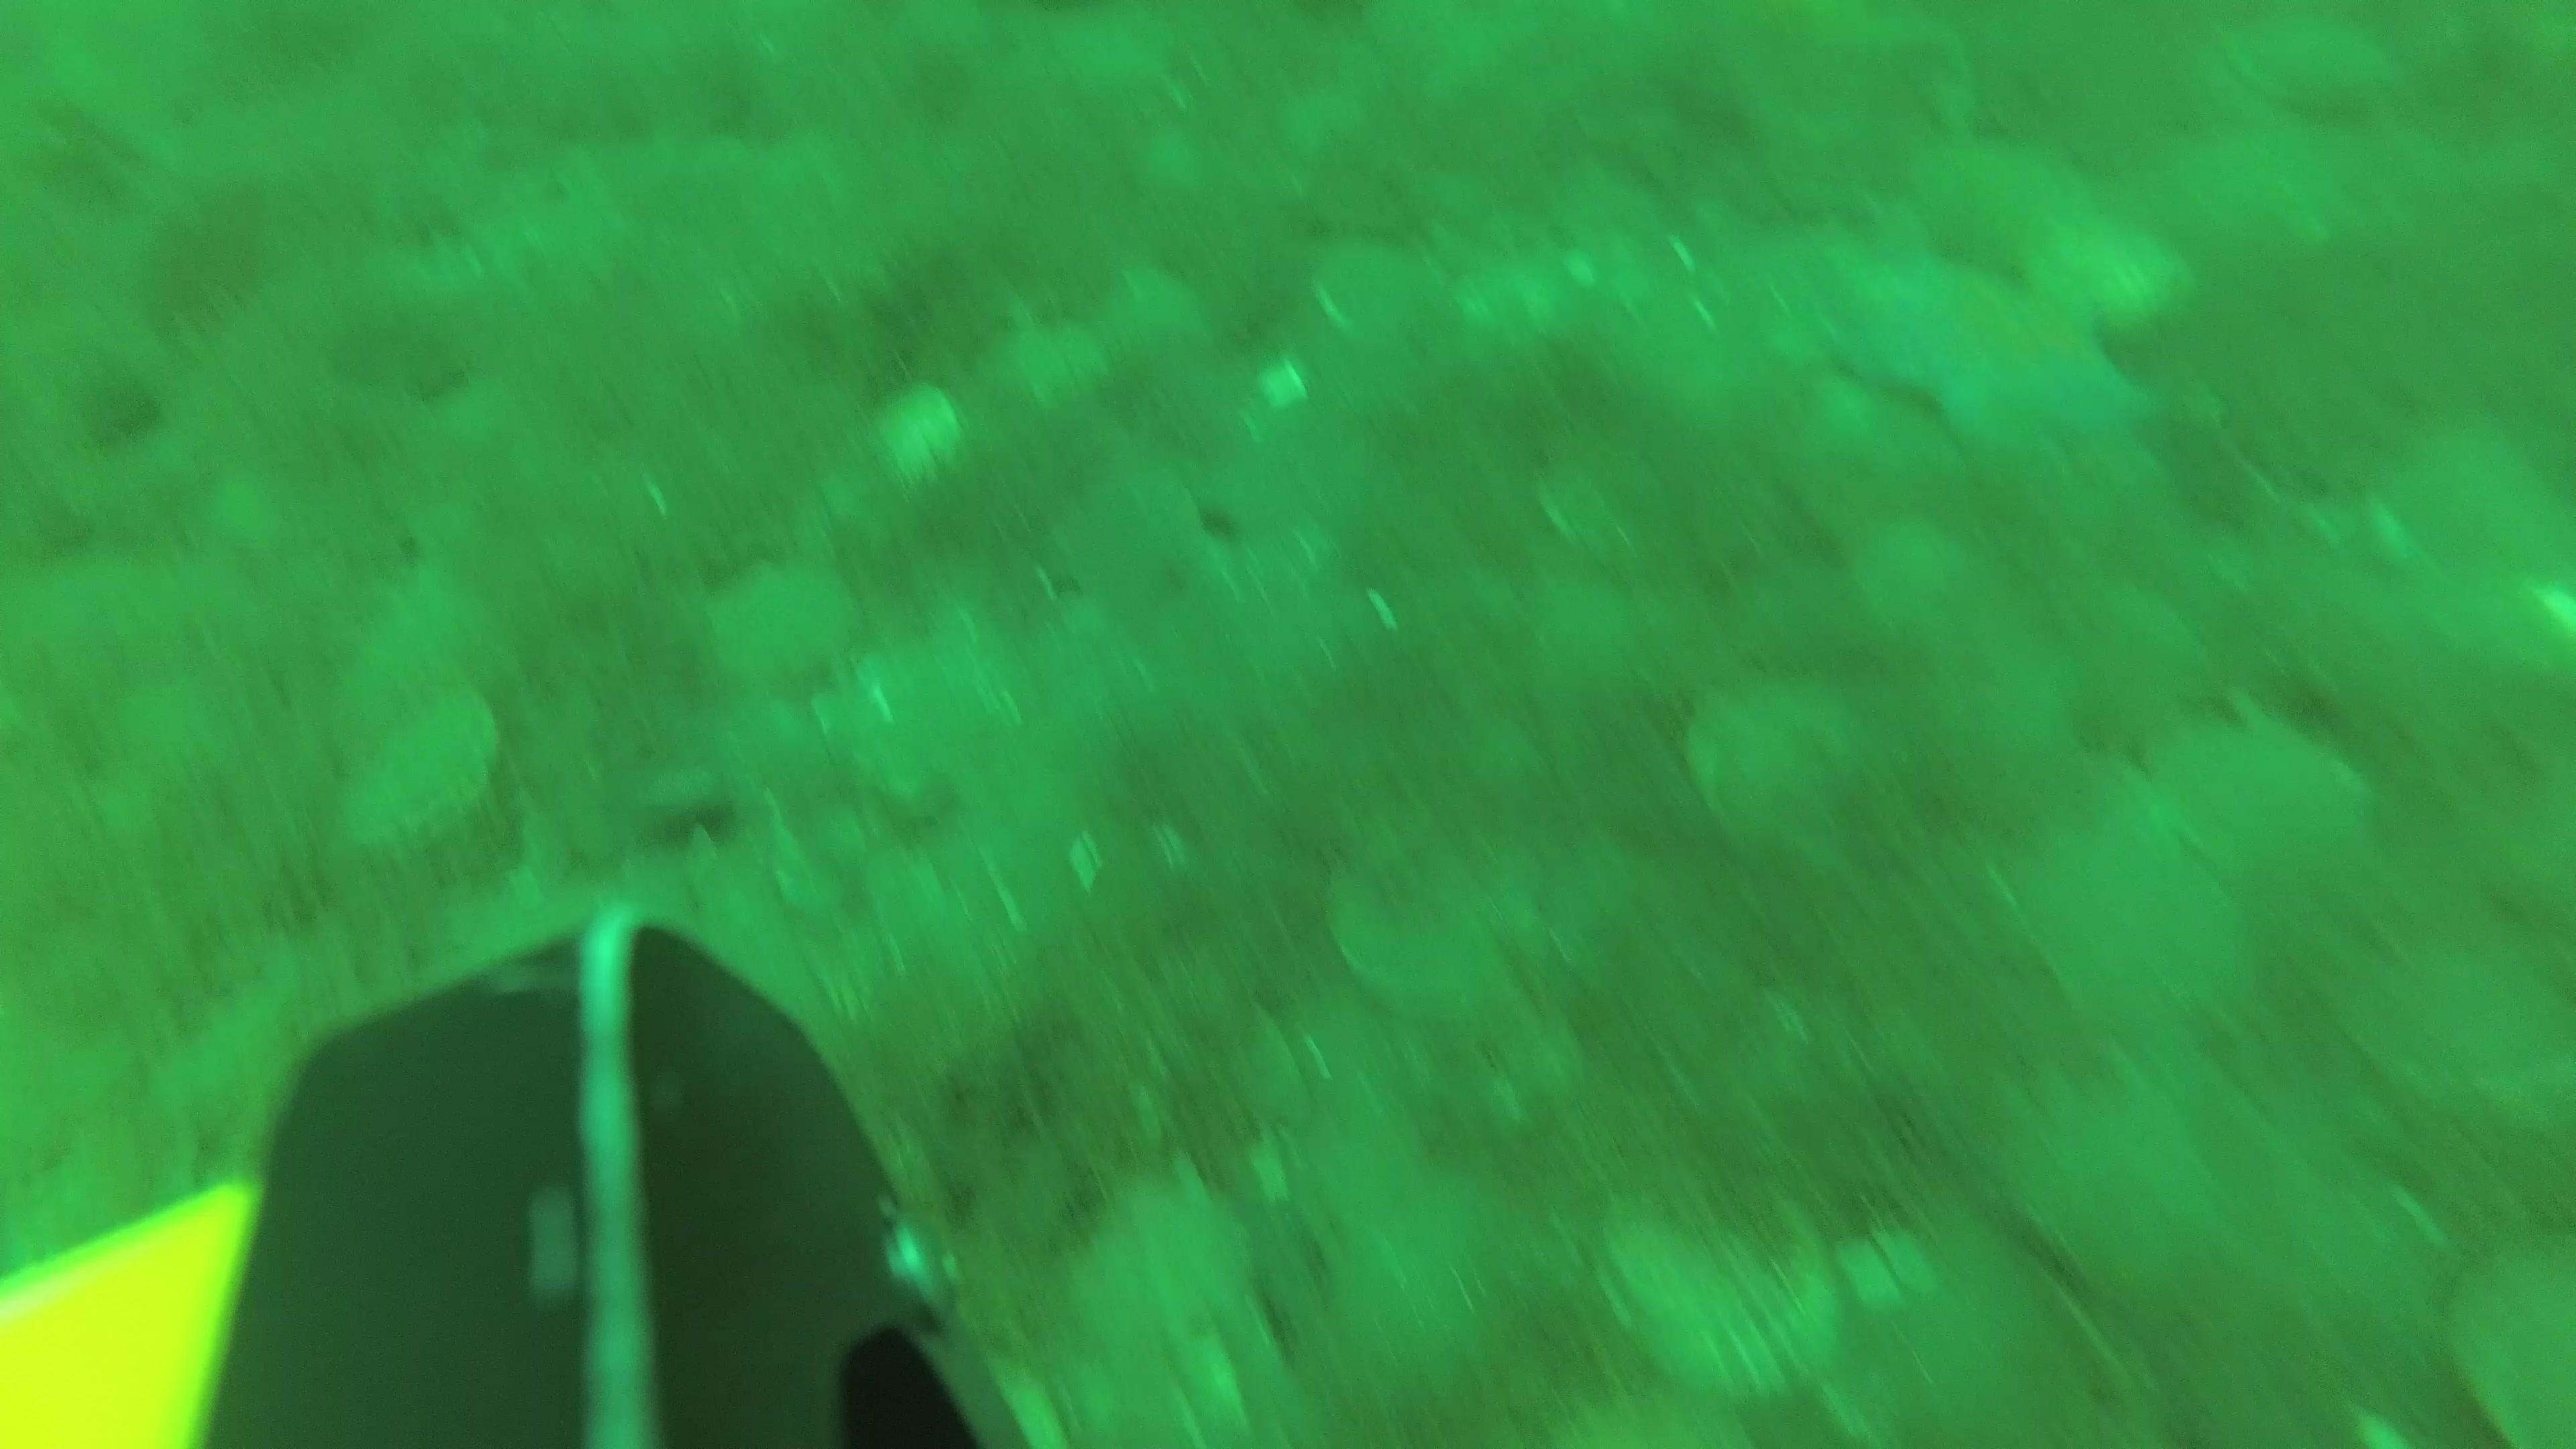scallop: (1569, 1171, 1854, 1407), (1679, 672, 1909, 863), (2139, 718, 2381, 888), (1062, 1175, 1253, 1376), (1332, 828, 1537, 1016), (338, 681, 502, 863), (2457, 1217, 2576, 1449), (697, 557, 863, 685), (2022, 211, 2204, 324), (2227, 12, 2404, 111), (1309, 234, 1438, 343), (985, 315, 1109, 425), (1099, 257, 1212, 364), (867, 386, 977, 488)
starfish: (1836, 258, 2160, 448)
